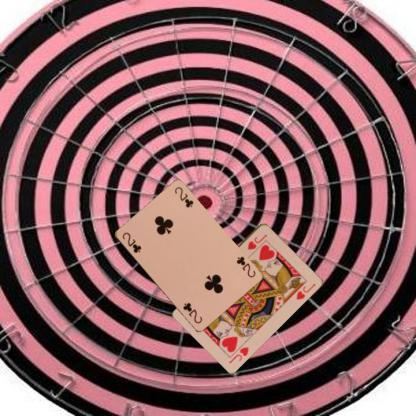2c: (234, 254, 256, 279), (120, 230, 142, 254)
Jh: (245, 231, 269, 251), (226, 344, 250, 364)
